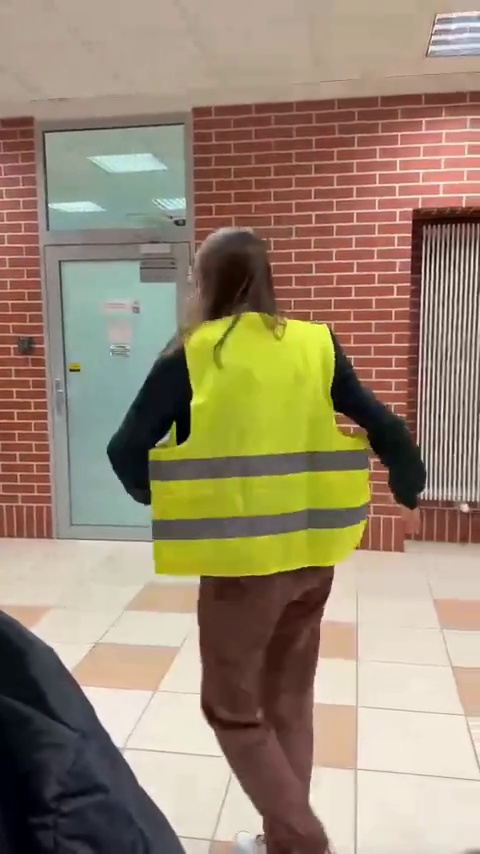vest: (115, 226, 440, 854)
